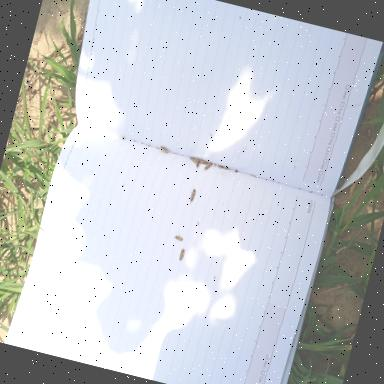pbw: (186, 186, 197, 206), (202, 160, 213, 172), (176, 248, 184, 260), (158, 145, 168, 153), (194, 158, 200, 169), (172, 235, 183, 241), (198, 159, 208, 165), (189, 156, 197, 162)
